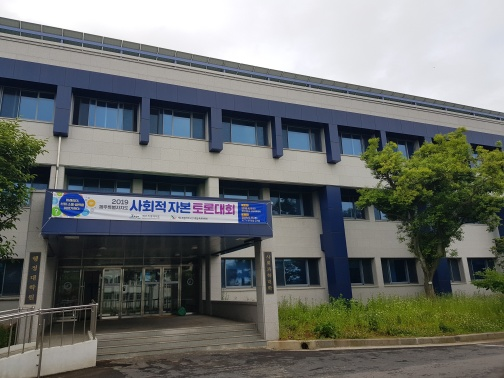College of Social Sciences: (10, 21, 501, 329), (26, 182, 294, 351), (44, 58, 353, 177)
